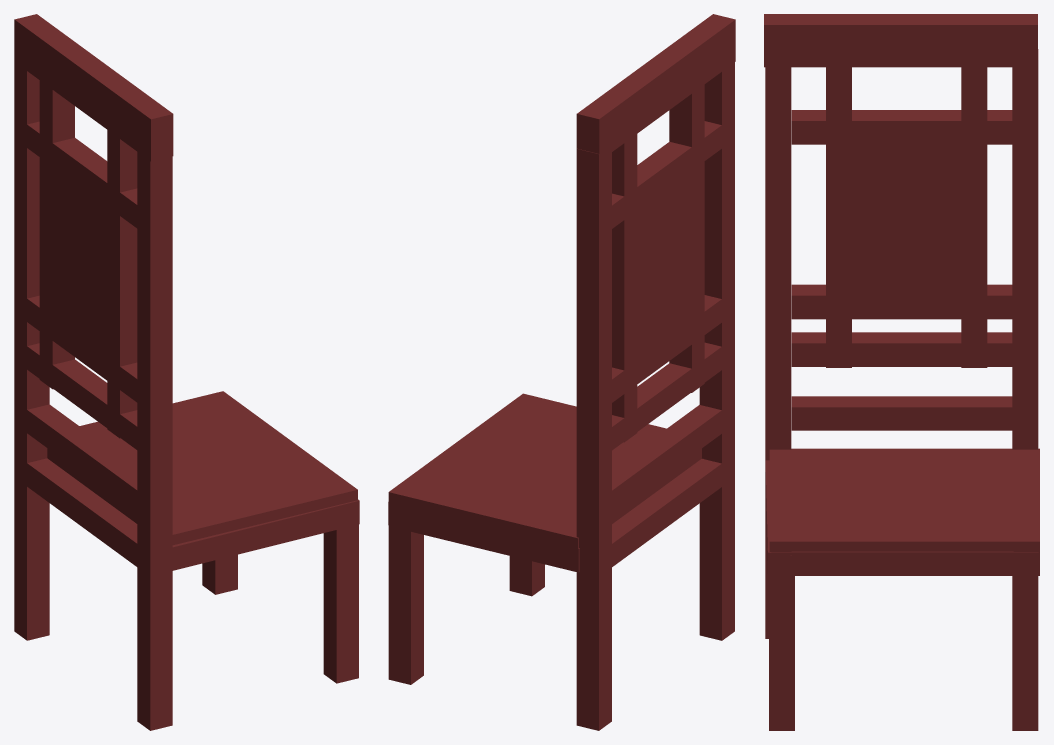
File: chaise.fbx
The picture shows the model from 3 angles, left to right: view 1: azimuth 30°, elevation 25°; view 2: azimuth 150°, elevation 25°; view 3: azimuth 270°, elevation 25°; orthographic projection.
Parts seen in each view (by area): view 1: pCube23; view 2: pCube23; view 3: pCube23.
Boxes of the visible parts, x1=… form: pCube23: x1=14, y1=14, x2=359, y2=730; pCube23: x1=388, y1=14, x2=735, y2=730; pCube23: x1=764, y1=14, x2=1039, y2=730.
Size of the model in its own units: 9.41 by 26.06 by 10.62.
